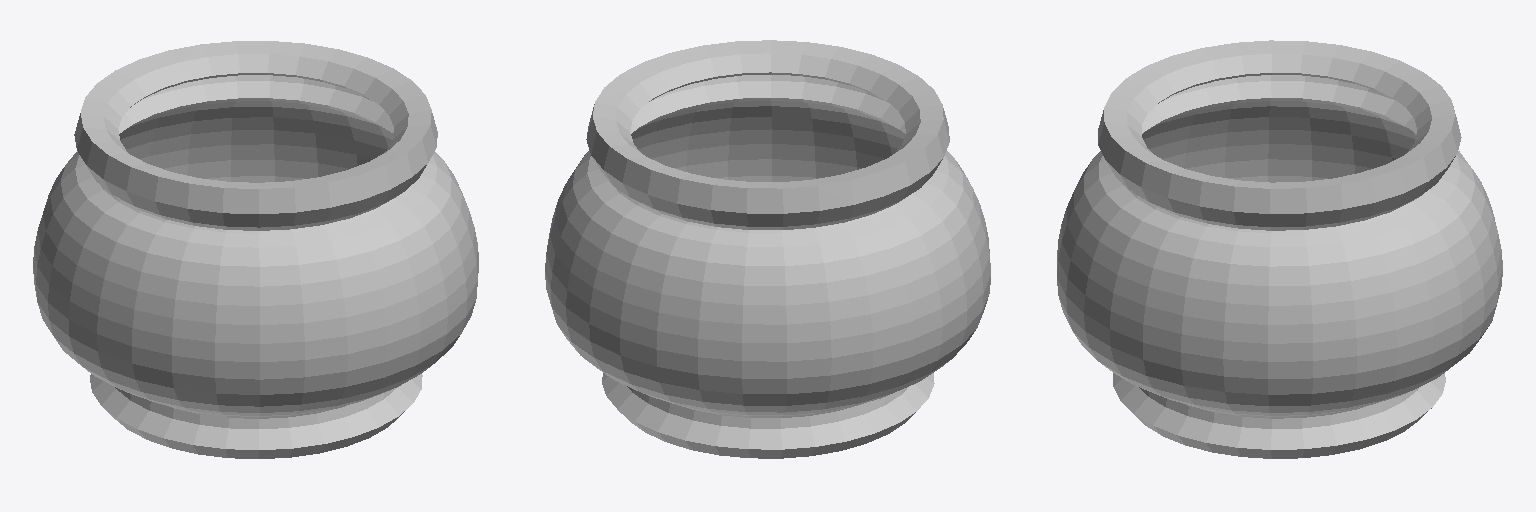
Rendered from Fish_In_Bowl.obj.
3 views of the same model, side by side, from view 1: azimuth 30°, elevation 25°; view 2: azimuth 150°, elevation 25°; view 3: azimuth 270°, elevation 25° (orthographic).
Visible parts, largest first — view 1: FishBowl; view 2: FishBowl; view 3: FishBowl.
Boxes of the visible parts, <box> form: FishBowl: <box>33,41,478,458</box>; FishBowl: <box>545,40,990,458</box>; FishBowl: <box>1057,40,1502,458</box>.
Bounding box in the file's own units: 31.46 × 21.95 × 31.42.